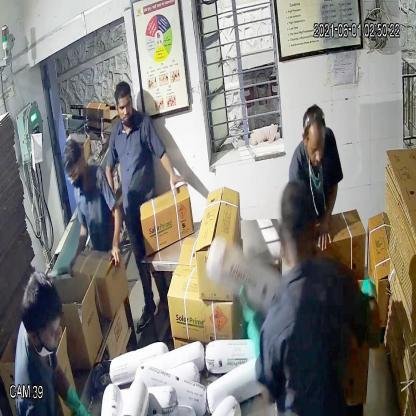no_goggles: (112, 94, 135, 117), (303, 138, 326, 160)
